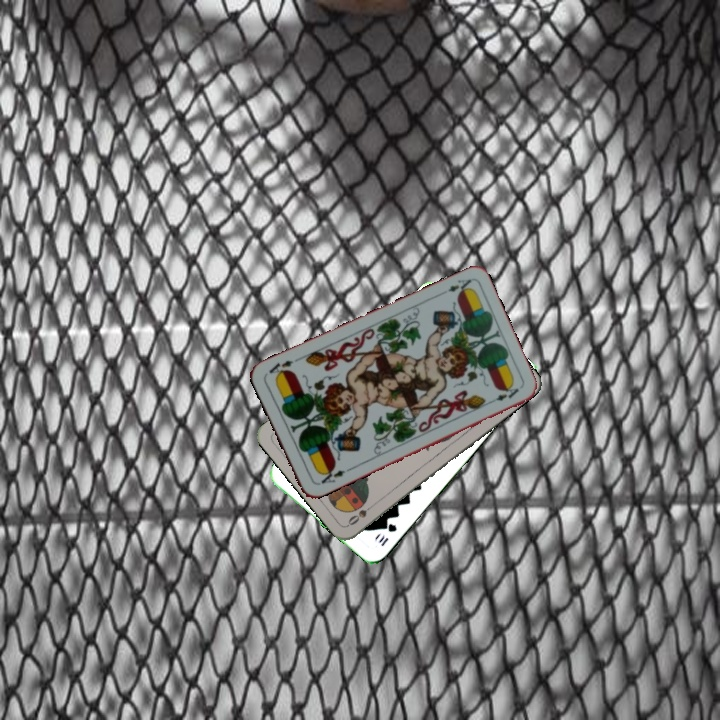EA: (314, 464, 352, 488), (435, 275, 474, 298)
G10: (375, 519, 399, 549)
SO: (343, 498, 379, 528)
